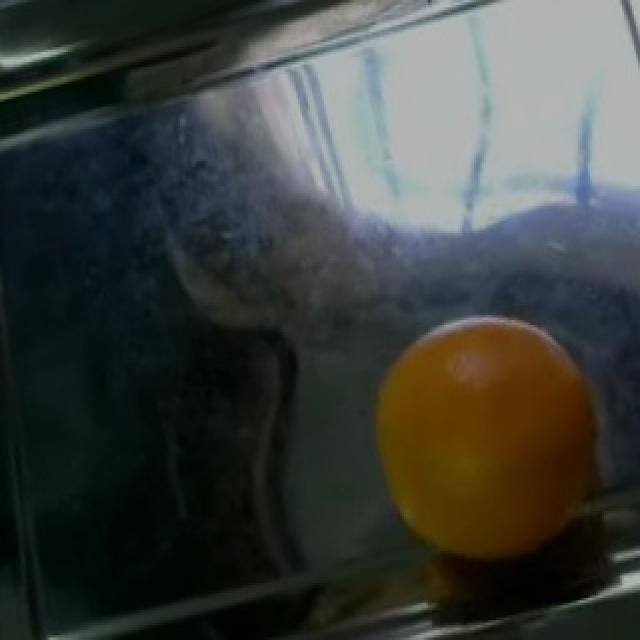Fruit: (344, 293, 622, 593)
